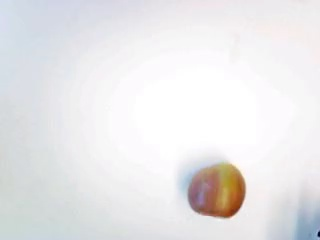apple: (187, 161, 247, 217)
